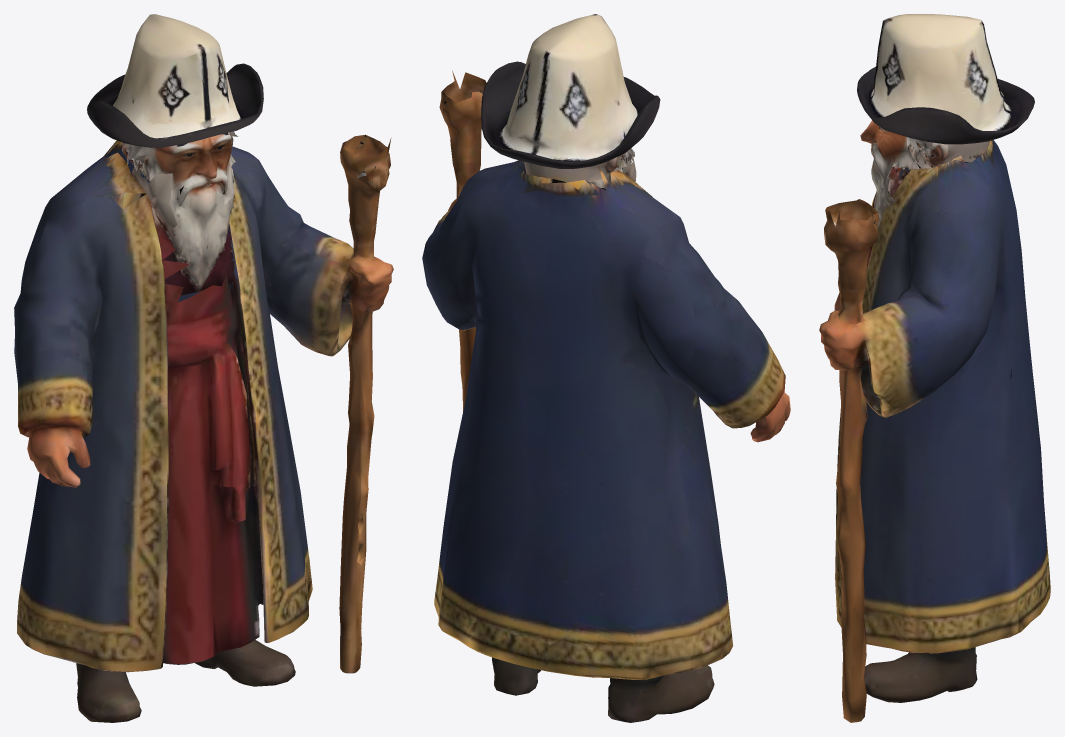
The model's file is elder.gen.glb.
3 renders of one model, left to right at view 1: azimuth 30°, elevation 25°; view 2: azimuth 150°, elevation 25°; view 3: azimuth 270°, elevation 25°, orthographic. The views are drawn at different scales.
Parts seen in each view (by area): view 1: elder.raw; view 2: elder.raw; view 3: elder.raw.
Boxes of the visible parts, left/top/right/bottom form: elder.raw: left=14, top=14, right=393, bottom=722; elder.raw: left=422, top=14, right=790, bottom=722; elder.raw: left=819, top=14, right=1050, bottom=722.
Bounding box in the file's own units: 1.1 × 1.95 × 0.6359.
1 material, 1 textured.
